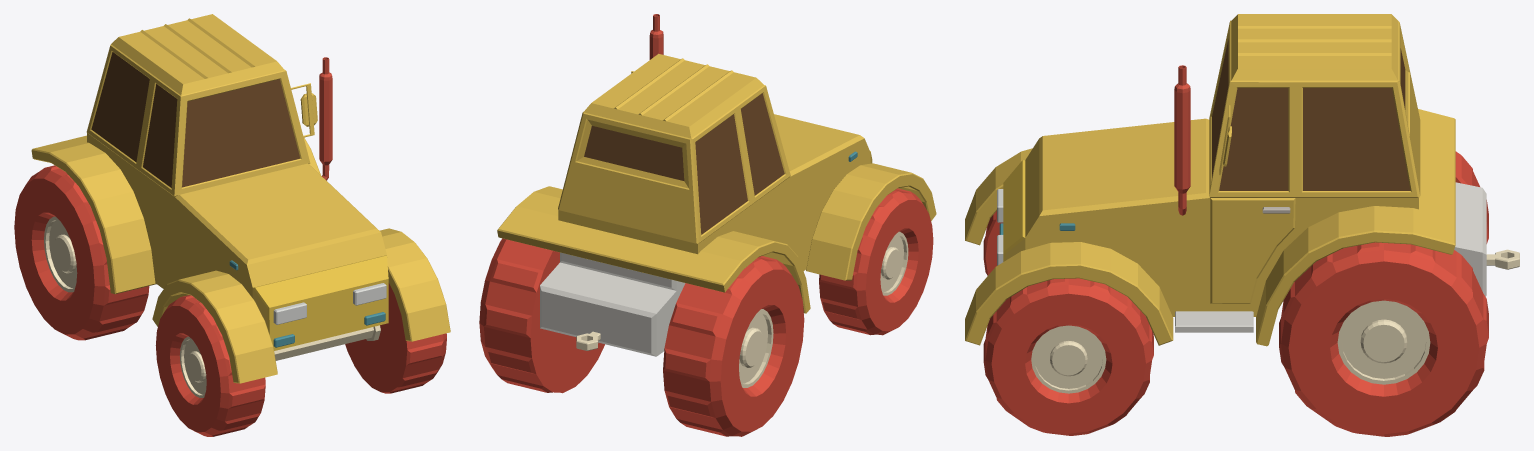
Rendered from tractor_a01.gltf.
3 views of the same model, side by side, from view 1: azimuth 30°, elevation 25°; view 2: azimuth 150°, elevation 25°; view 3: azimuth 270°, elevation 25° (orthographic). The views are drawn at different scales.
Parts seen in each view (by area): view 1: Rectangle020, Cylinder133, tractor_a01_001, Cylinder135, Line250, Box1444, Box1447; view 2: Rectangle020, Cylinder133, Rectangle019, tractor_a01_001, Cylinder135, Line250; view 3: Rectangle020, Cylinder133, tractor_a01_001, Cylinder135, Rectangle019, Line250, Box1448.
Part boxes in pixels (x1,y1,x2,y2): Rectangle020: (31,14,450,383); Cylinder133: (14,165,446,436); tractor_a01_001: (91,52,388,350); Cylinder135: (44,216,380,397); Line250: (319,57,332,180); Box1444: (273,283,386,324); Box1447: (229,260,385,347); Rectangle020: (497,53,936,313); Cylinder133: (479,188,933,436); Rectangle019: (540,252,685,356); tractor_a01_001: (584,93,872,234); Cylinder135: (576,231,908,387); Line250: (649,14,663,59); Rectangle020: (965,14,1455,346); Cylinder133: (983,151,1488,436); tractor_a01_001: (1003,39,1410,261); Cylinder135: (1031,249,1519,393); Rectangle019: (1454,182,1486,296); Line250: (1174,65,1190,215); Box1448: (1175,311,1253,332).
Size of the model in its own units: 2.28 by 2.77 by 3.98.
Materials: 1 (1 with a texture image).
